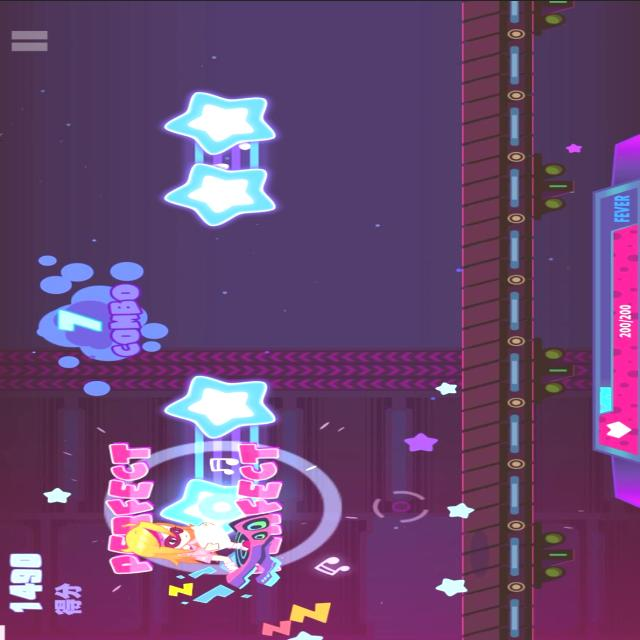hold: (157, 372, 287, 544), (160, 90, 280, 228)
